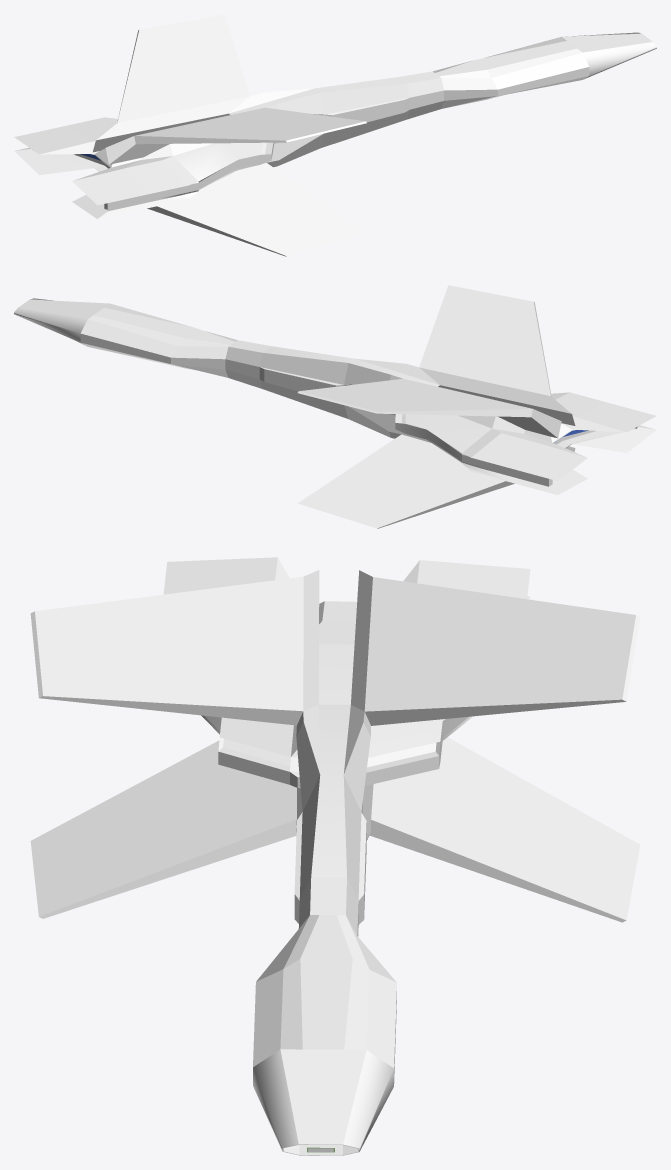
The model's file is Eriax_Heavy_Gunship.FBX.
3 renders of one model, top to bottom at view 1: azimuth 30°, elevation 25°; view 2: azimuth 150°, elevation 25°; view 3: azimuth 270°, elevation 25°, orthographic. The views are drawn at different scales.
Visible parts, largest first — view 1: Box01, Box02; view 2: Box01, Box02; view 3: Box01, Box02.
Part boxes in pixels (x1,y1,x2,y2): Box01: [93, 14, 656, 256]; Box02: [14, 117, 274, 219]; Box01: [14, 285, 575, 528]; Box02: [395, 392, 656, 494]; Box01: [30, 570, 640, 1155]; Box02: [163, 557, 530, 788].
Bounding box in the file's own units: 221 × 41.61 × 99.2.
3 materials, 1 textured.
